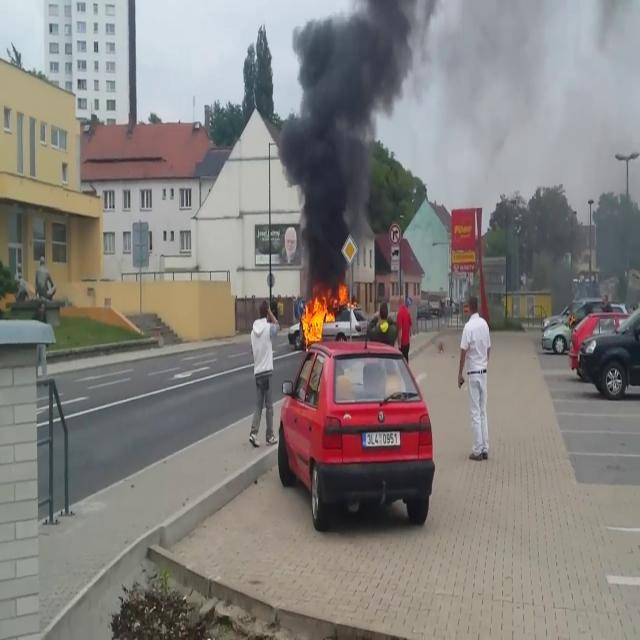Fire: (299, 284, 346, 342)
Smoke: (280, 1, 418, 276), (419, 0, 556, 200)
